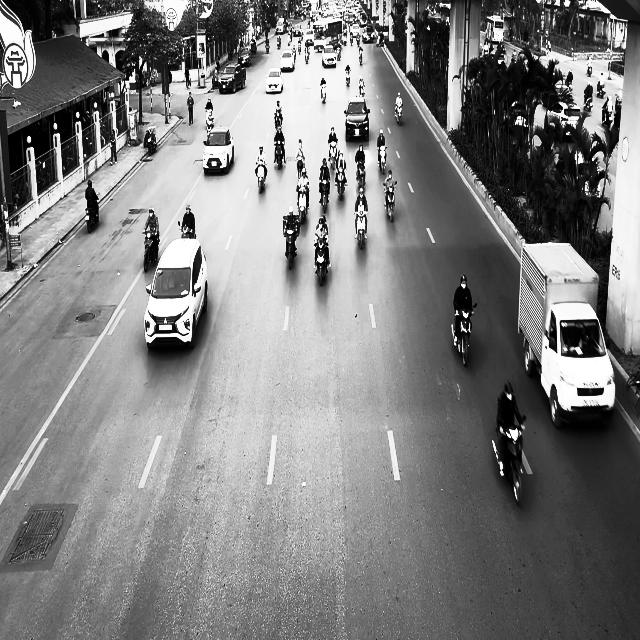bus: (312, 16, 343, 52), (486, 15, 504, 44)
car: (144, 237, 208, 350), (202, 127, 234, 175), (344, 96, 370, 141), (218, 62, 245, 94), (265, 67, 284, 93), (322, 44, 336, 68), (280, 50, 296, 71), (238, 46, 252, 66)
motorbike: (492, 415, 526, 507), (451, 303, 477, 367), (283, 221, 298, 270), (314, 238, 329, 286), (143, 229, 159, 272), (383, 181, 397, 222), (354, 210, 368, 249), (85, 195, 99, 233), (334, 164, 347, 199), (297, 187, 308, 223), (319, 179, 330, 214), (255, 164, 267, 193), (144, 126, 156, 154), (356, 159, 366, 189), (377, 145, 387, 174), (274, 140, 284, 169), (328, 142, 337, 169), (205, 109, 214, 135), (583, 90, 593, 111), (394, 103, 403, 125), (296, 154, 304, 177), (320, 79, 327, 102), (345, 65, 351, 86)
truck: (517, 241, 616, 428)
